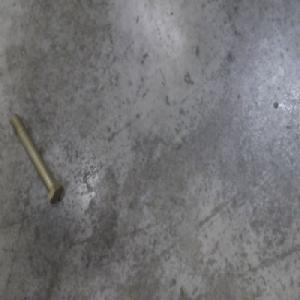Bolt: (11, 106, 63, 205)
